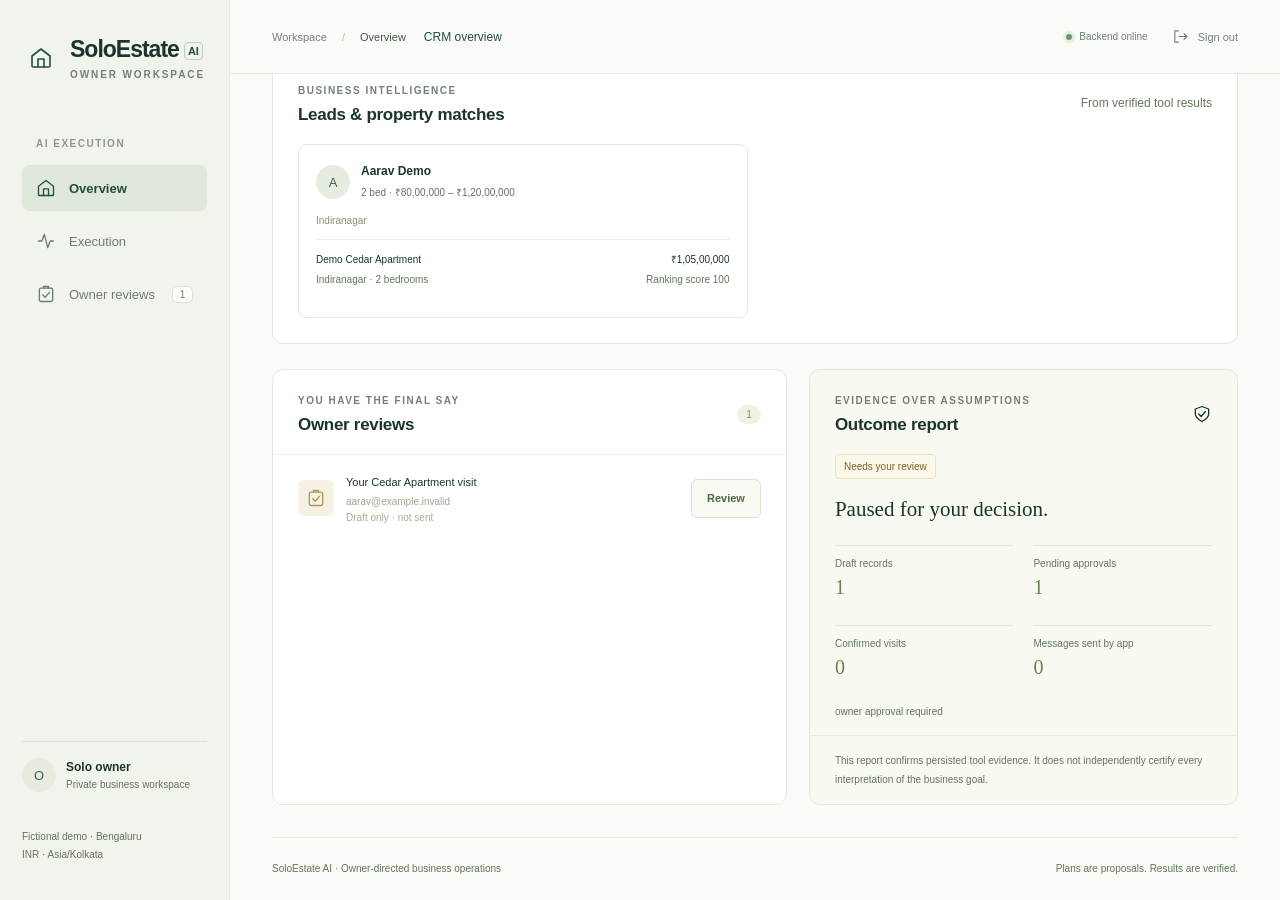
opens the full review snapshot without deciding it automatically
The width and height of the screenshot is (1280, 900).
(page scrolled)
Click the button "Review" at (726, 498), box [691,479,761,518]
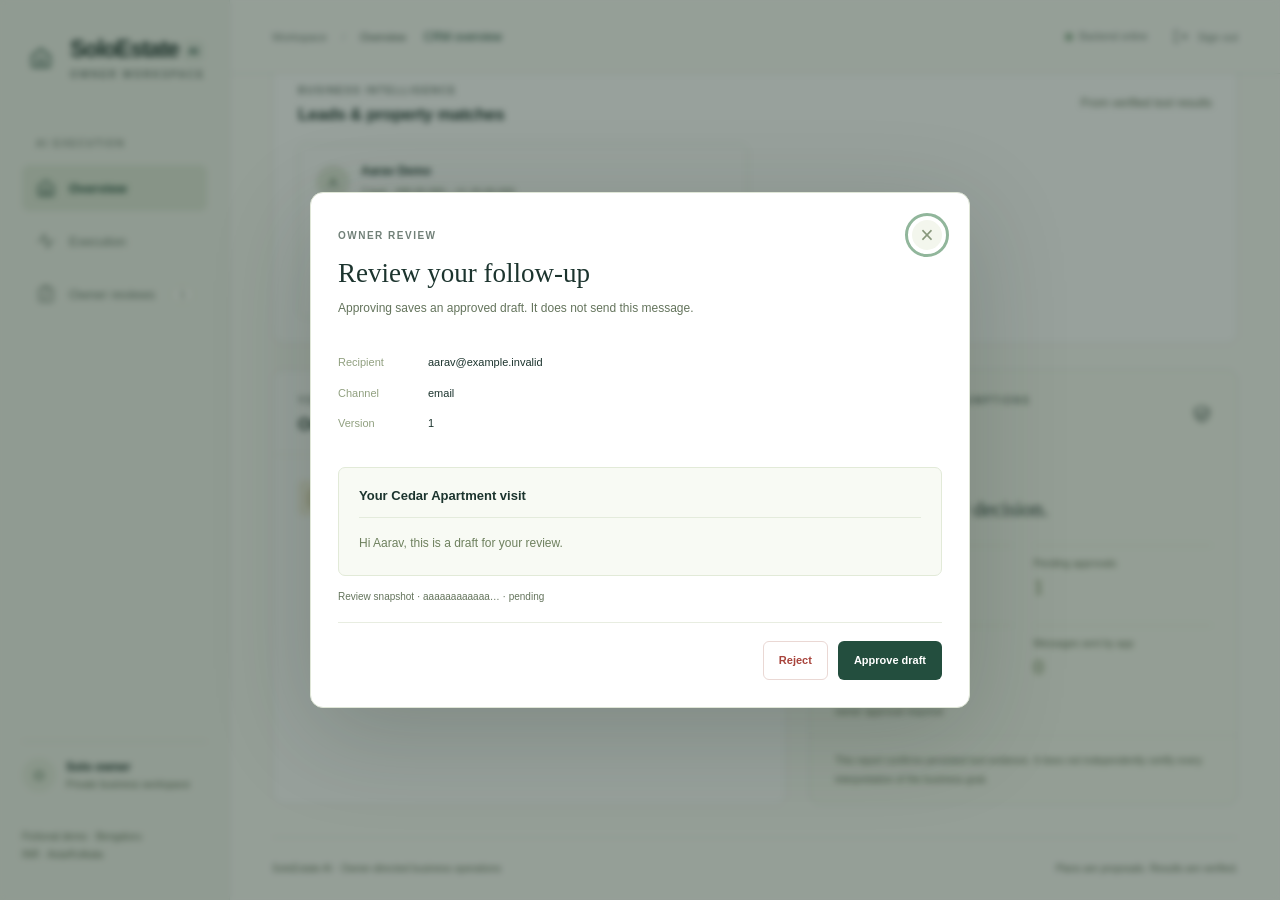
Expected: the text "Hi Aarav, this is a draft for your review." is shown, [359,536,563,550]
Expected: the text "aarav@example.invalid" is shown, [428,356,542,368]
